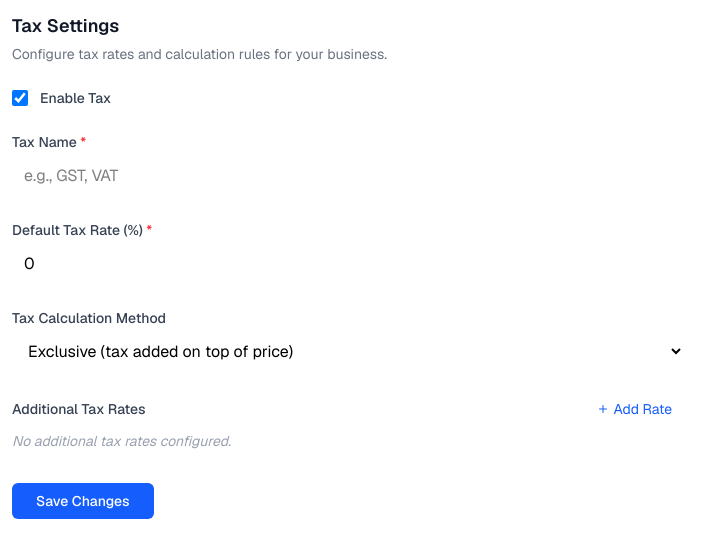
TaxSettings › Validates required fields and rate range › shows error when tax name is empty on submit
Click the button "Save Changes": {"x": 83, "y": 501} [12,483,154,519]
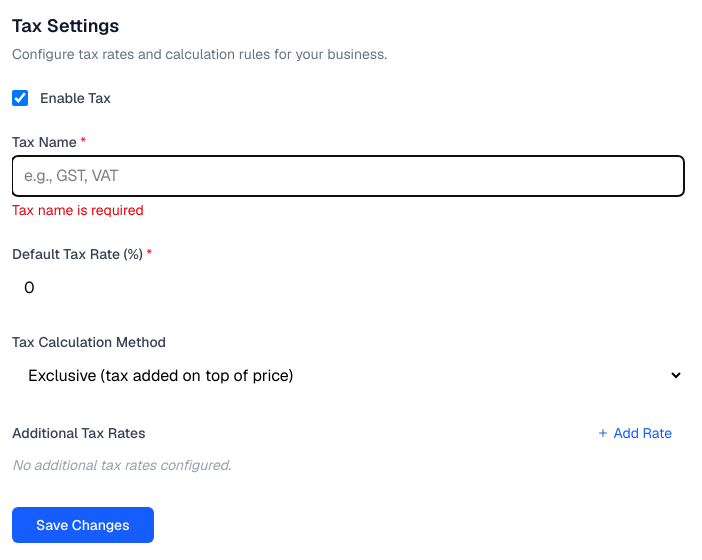
Check: the text "Tax name is required" is shown, box [12,201,144,219]
